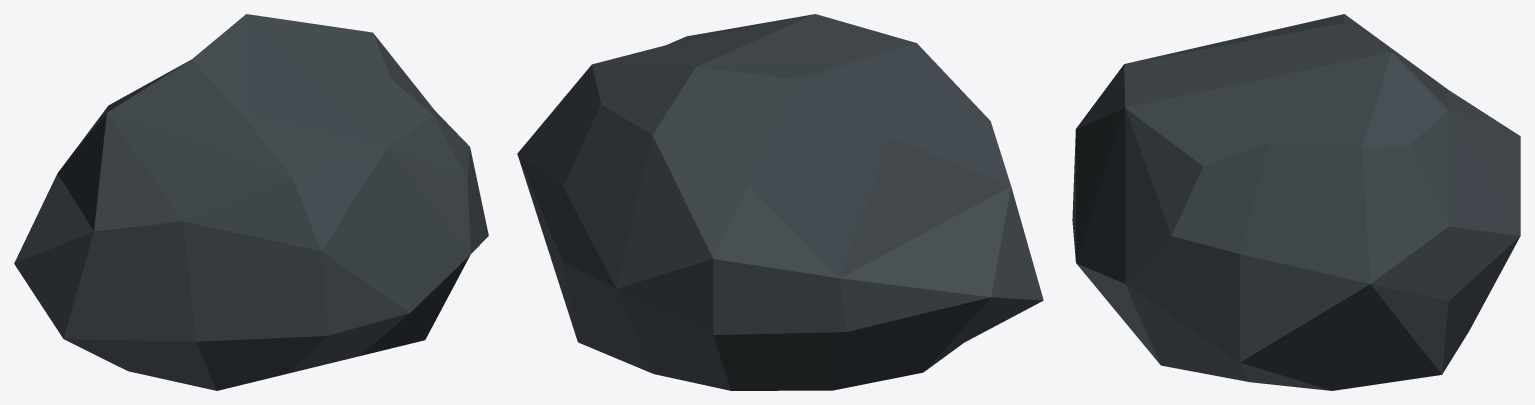
File: Boulder-A15.fbx
3 views of the same model, side by side, from view 1: azimuth 30°, elevation 25°; view 2: azimuth 150°, elevation 25°; view 3: azimuth 270°, elevation 25° (orthographic). The views are drawn at different scales.
Parts seen in each view (by area): view 1: Boulder-A15; view 2: Boulder-A15; view 3: Boulder-A15.
Part boxes in pixels (x1,y1,x2,y2): Boulder-A15: (14,14,488,390); Boulder-A15: (517,14,1043,390); Boulder-A15: (1072,14,1520,390).
Bounding box in the file's own units: 145 × 84.16 × 123.
